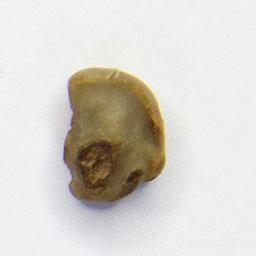defect: (61, 65, 169, 206)
